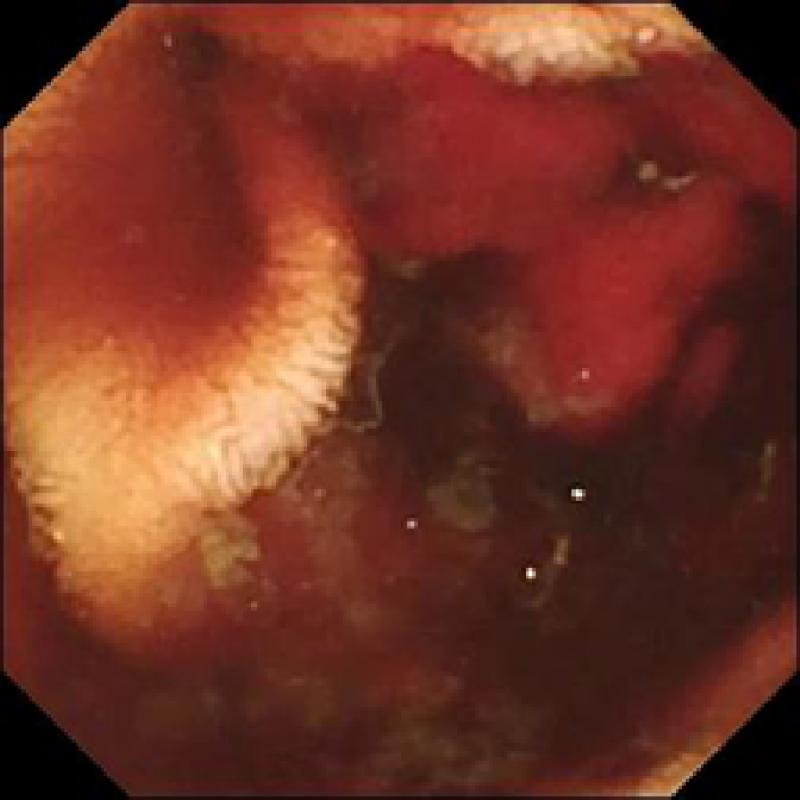bleeding: (257, 43, 793, 428)
